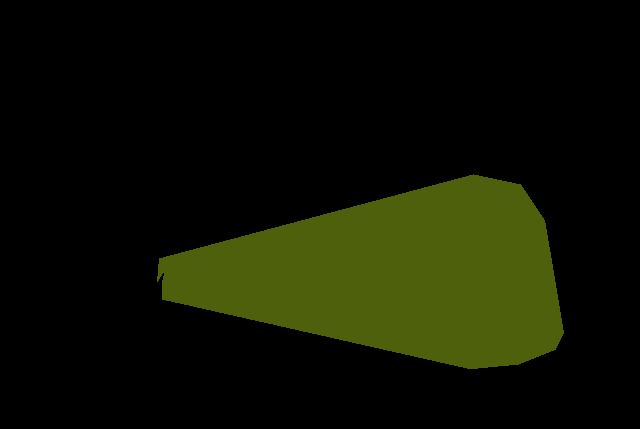Train: (157, 174, 564, 368)
